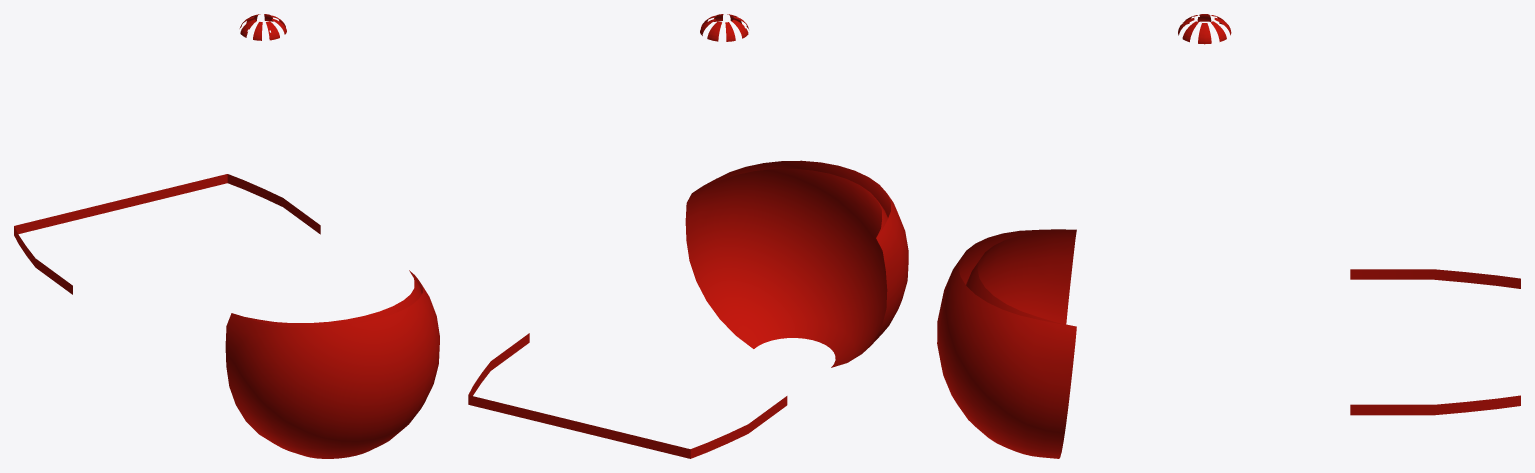
File: BandaSuperior.fbx
3 renders of one model, left to right at view 1: azimuth 30°, elevation 25°; view 2: azimuth 150°, elevation 25°; view 3: azimuth 270°, elevation 25°, orthographic. The views are drawn at different scales.
Parts seen in each view (by area): view 1: bandasuperior; view 2: bandasuperior; view 3: bandasuperior.
Boxes of the visible parts, x1=… form: bandasuperior: x1=14, y1=14, x2=439, y2=458; bandasuperior: x1=468, y1=14, x2=908, y2=458; bandasuperior: x1=937, y1=14, x2=1520, y2=458.
Bounding box in the file's own units: 4088 × 5912 × 7445.
